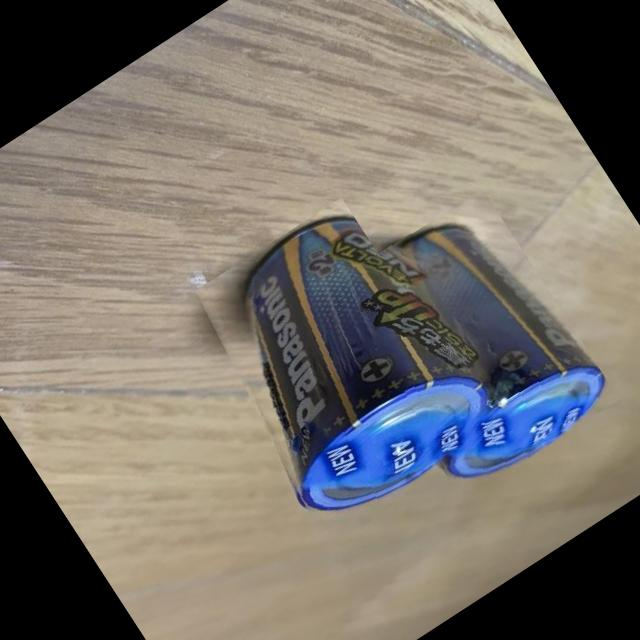Hazard: (170, 194, 495, 544), (322, 183, 619, 500)
